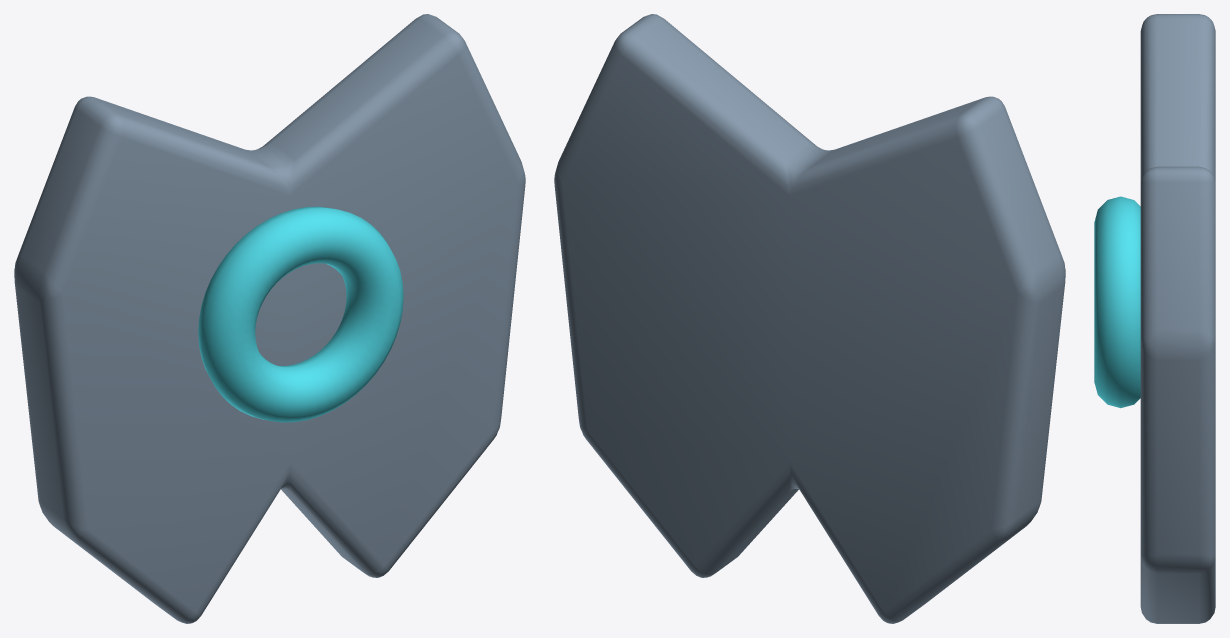
The model's file is shield_v6.glb.
3 views of the same model, side by side, from view 1: azimuth 30°, elevation 25°; view 2: azimuth 150°, elevation 25°; view 3: azimuth 270°, elevation 25° (orthographic). The views are drawn at different scales.
Visible parts, largest first — view 1: CRESCENT_SHIELD_PRIMARY, CRESCENT_BOSS_ACCENT; view 2: CRESCENT_SHIELD_PRIMARY; view 3: CRESCENT_SHIELD_PRIMARY, CRESCENT_BOSS_ACCENT.
Part boxes in pixels (x1=…): CRESCENT_SHIELD_PRIMARY: x1=14, y1=14, x2=525, y2=623; CRESCENT_BOSS_ACCENT: x1=198, y1=206, x2=403, y2=422; CRESCENT_SHIELD_PRIMARY: x1=554, y1=14, x2=1065, y2=623; CRESCENT_SHIELD_PRIMARY: x1=1140, y1=14, x2=1215, y2=623; CRESCENT_BOSS_ACCENT: x1=1094, y1=196, x2=1140, y2=408.
Size of the model in its own units: 2.35 by 2.44 by 0.55.
